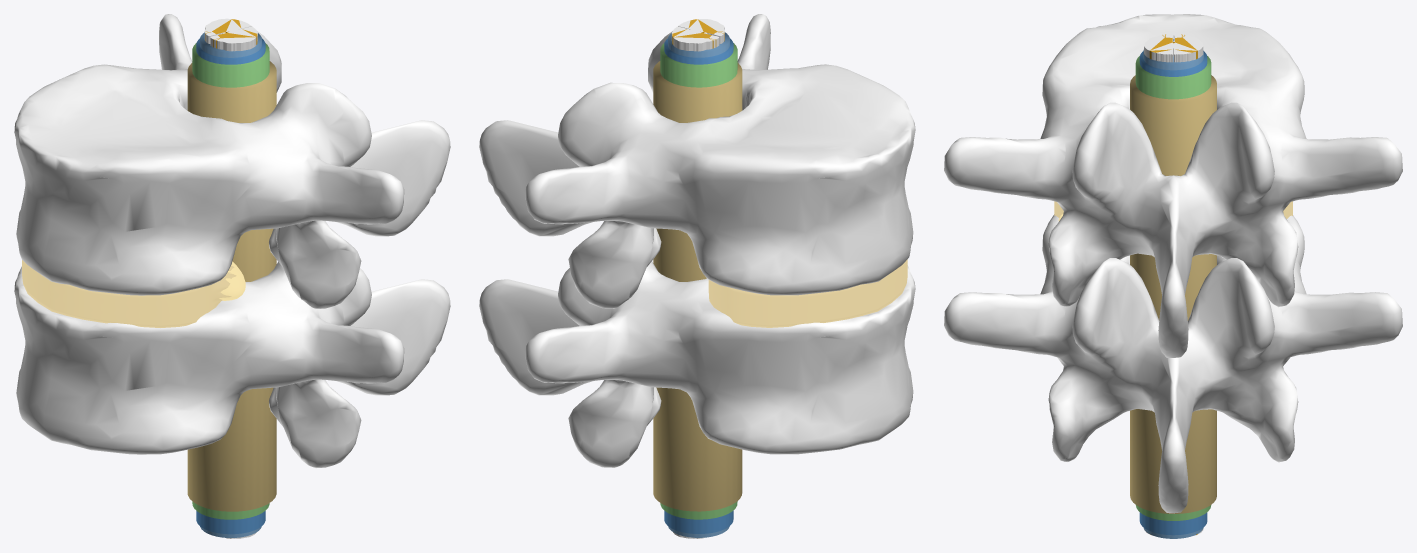
File: vertebra_hq.glb
The picture shows the model from 3 angles, left to right: view 1: azimuth 30°, elevation 25°; view 2: azimuth 150°, elevation 25°; view 3: azimuth 270°, elevation 25°; orthographic projection. The views are drawn at different scales.
Parts seen in each view (by area): view 1: Cube.002, Cube.001, Cylinder.005, Cylinder, Cylinder.006, Cylinder.007, Plane, Cylinder.008, Sphere; view 2: Cube.002, Cube.001, Cylinder.005, Cylinder, Cylinder.006, Cylinder.007, Plane, Cylinder.008; view 3: Cube.002, Cube.001, Cylinder.005, Cylinder.006, Cylinder.007, Plane, Cylinder.008.
Part boxes in pixels (left/top/right/bottom): Cube.002: left=14, top=14, right=450, bottom=308; Cube.001: left=14, top=262, right=450, bottom=468; Cylinder.005: left=187, top=61, right=276, bottom=511; Cylinder: left=22, top=260, right=236, bottom=327; Cylinder.006: left=192, top=43, right=269, bottom=519; Cylinder.007: left=196, top=38, right=265, bottom=534; Plane: left=204, top=18, right=257, bottom=538; Cylinder.008: left=200, top=32, right=261, bottom=537; Sphere: left=219, top=261, right=245, bottom=300; Cube.002: left=479, top=14, right=915, bottom=308; Cube.001: left=479, top=261, right=915, bottom=467; Cylinder.005: left=653, top=61, right=742, bottom=511; Cylinder: left=708, top=259, right=907, bottom=327; Cylinder.006: left=660, top=43, right=737, bottom=519; Cylinder.007: left=664, top=38, right=733, bottom=533; Plane: left=671, top=19, right=724, bottom=538; Cylinder.008: left=668, top=32, right=729, bottom=537; Cube.002: left=944, top=14, right=1402, bottom=357; Cube.001: left=944, top=214, right=1402, bottom=513; Cylinder.005: left=1130, top=75, right=1216, bottom=513; Cylinder.006: left=1135, top=56, right=1211, bottom=520; Cylinder.007: left=1139, top=51, right=1207, bottom=535; Plane: left=1144, top=34, right=1203, bottom=535; Cylinder.008: left=1143, top=39, right=1203, bottom=538.
Size of the model in its own units: 2.02 by 2.27 by 1.95.
